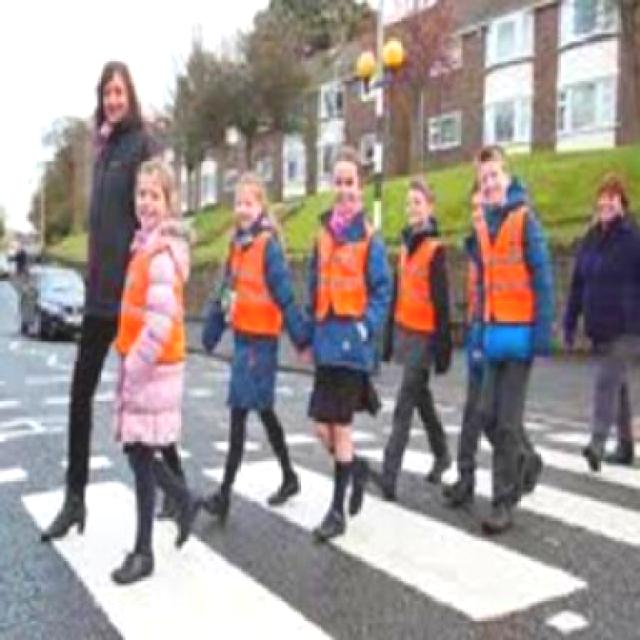Person: (39, 44, 135, 546), (203, 163, 320, 539), (108, 152, 208, 586), (464, 143, 560, 532), (314, 140, 378, 556), (392, 173, 461, 504), (570, 166, 638, 478)
